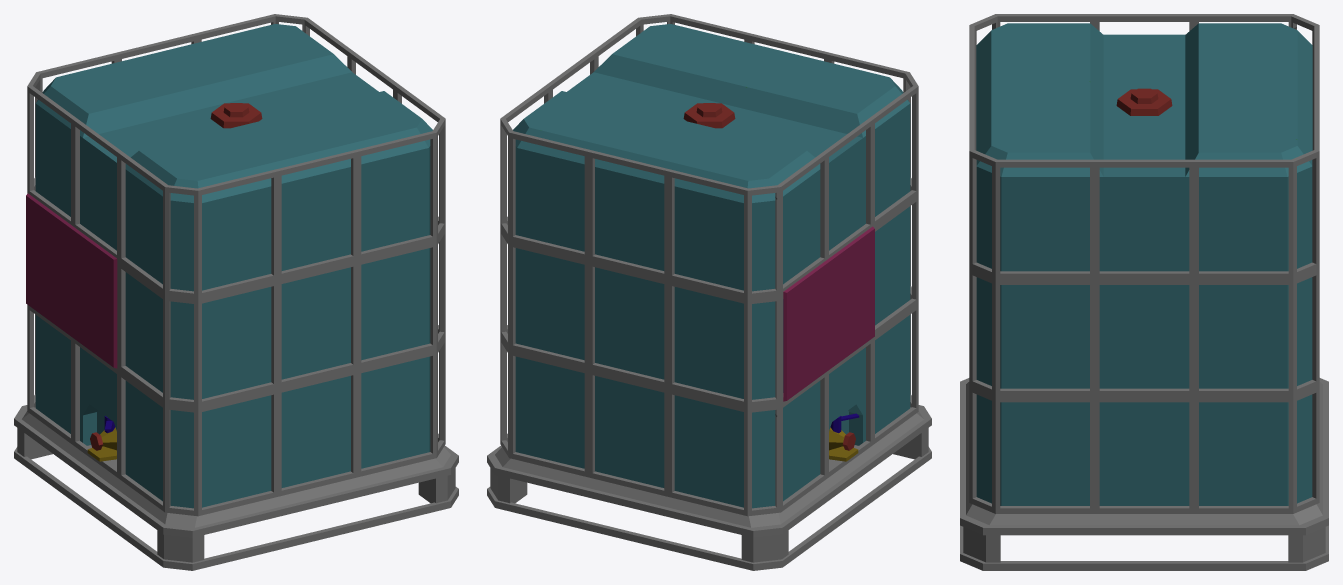
The model's file is Water_Container_Plastic.fbx.
The picture shows the model from 3 angles, left to right: view 1: azimuth 30°, elevation 25°; view 2: azimuth 150°, elevation 25°; view 3: azimuth 270°, elevation 25°; orthographic projection. The views are drawn at different scales.
Visible parts, largest first — view 1: Water_Container_Plastic; view 2: Water_Container_Plastic; view 3: Water_Container_Plastic.
Part boxes in pixels (x1=…): Water_Container_Plastic: x1=14, y1=14, x2=458, y2=570; Water_Container_Plastic: x1=487, y1=14, x2=931, y2=570; Water_Container_Plastic: x1=960, y1=14, x2=1328, y2=570.
Size of the model in its own units: 168 by 204 by 168.
